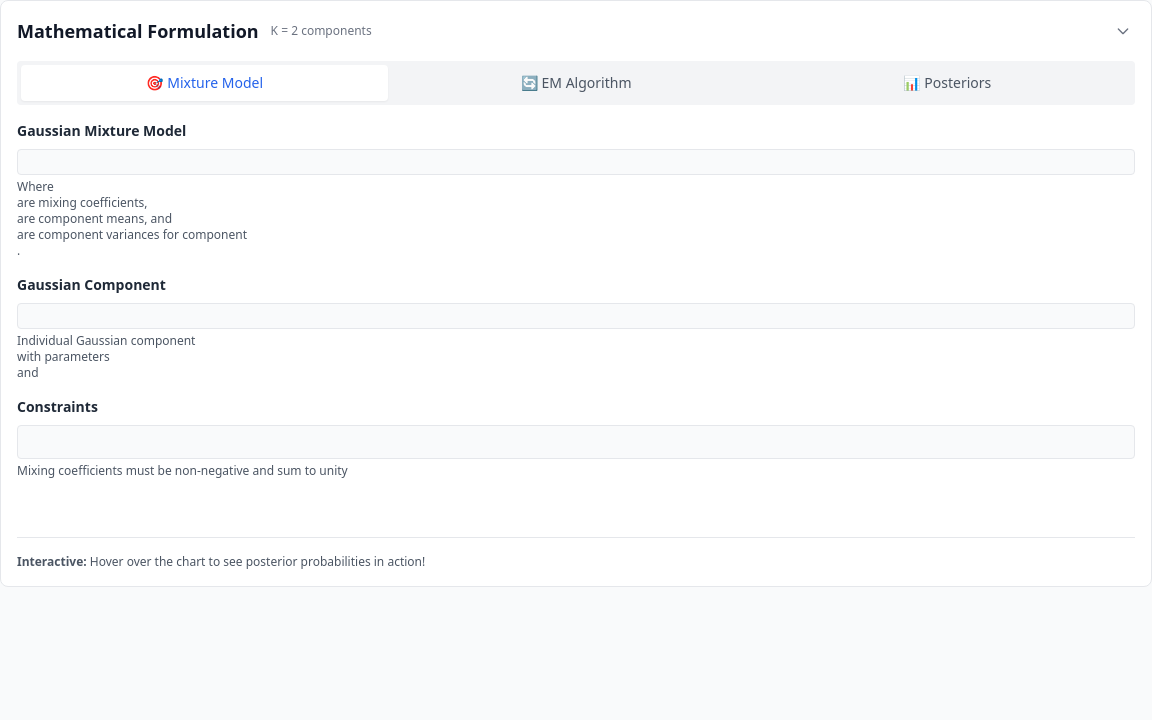
MathFormulasPanel › Tab Navigation › should switch between sections when tabs are clicked
This screenshot has width=1152, height=720.
expect the heading "Gaussian Mixture Model" is shown: met, box [17, 121, 186, 140]
# Click EM Algorithm tab
Click the button "🔄EM Algorithm".
click(576, 83)  # box [392, 65, 760, 101]
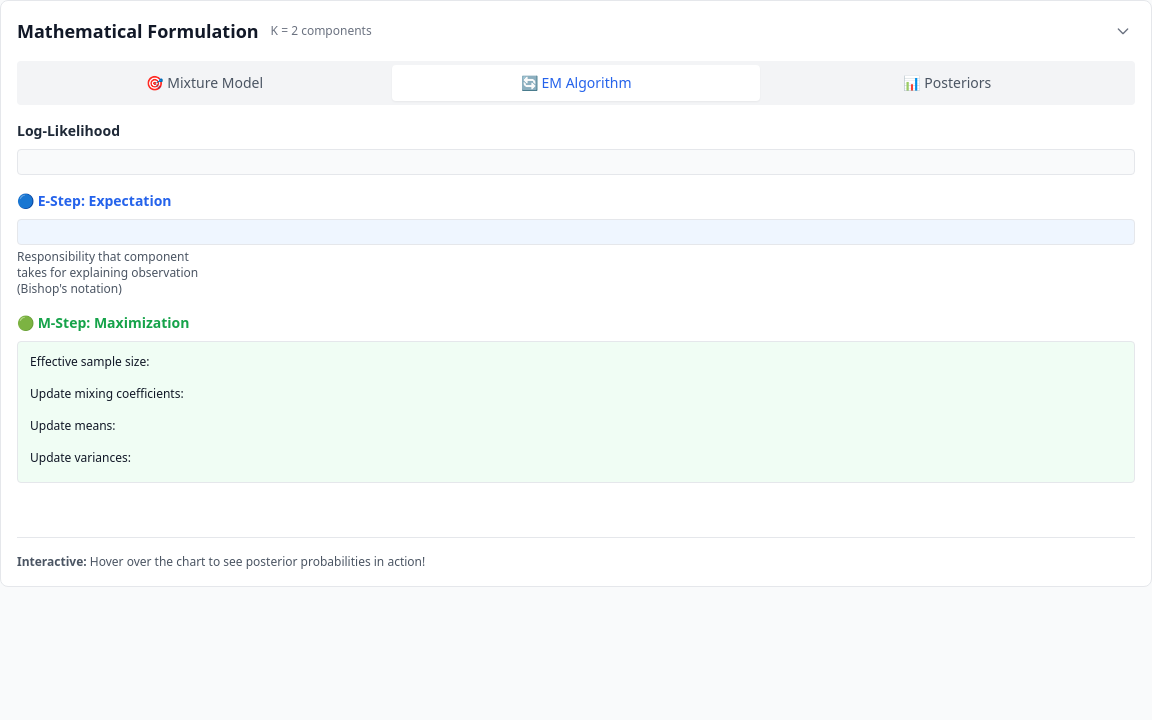
expect the heading "Log-Likelihood" is shown: met, box [17, 121, 120, 140]
expect the heading "🔵 E-Step: Expectation" is shown: met, box [17, 191, 172, 210]
expect the heading "🟢 M-Step: Maximization" is shown: met, box [17, 313, 190, 332]
# Click Posteriors tab
Click the button "📊Posteriors".
click(947, 83)  # box [764, 65, 1131, 101]
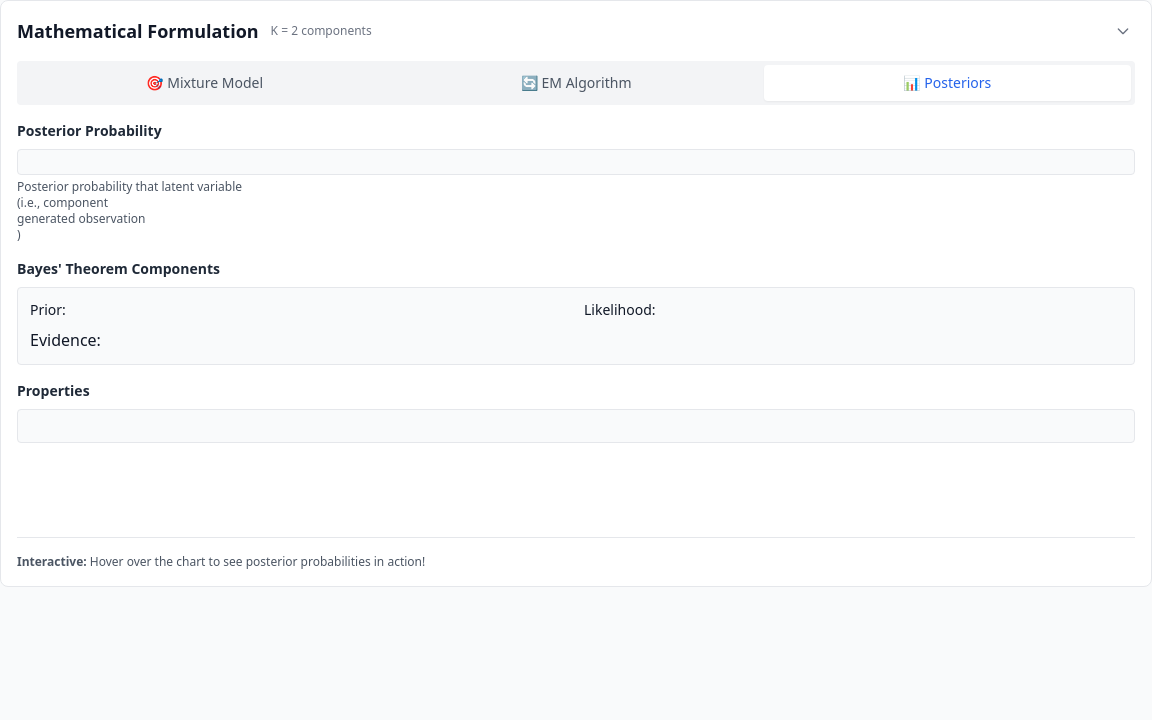
expect the heading "Posterior Probability" is shown: met, box [17, 121, 162, 140]
expect the heading "Bayes' Theorem Components" is shown: met, box [17, 259, 220, 278]
